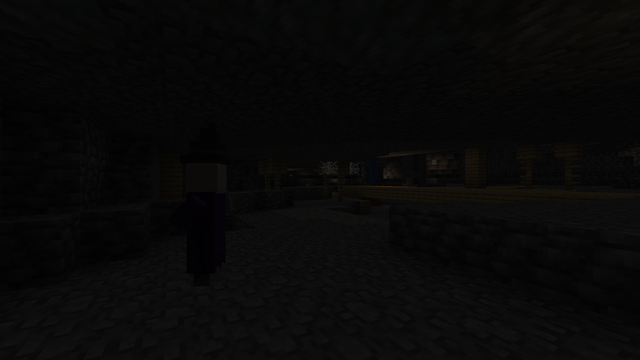sorcieres: (185, 157, 229, 291)
